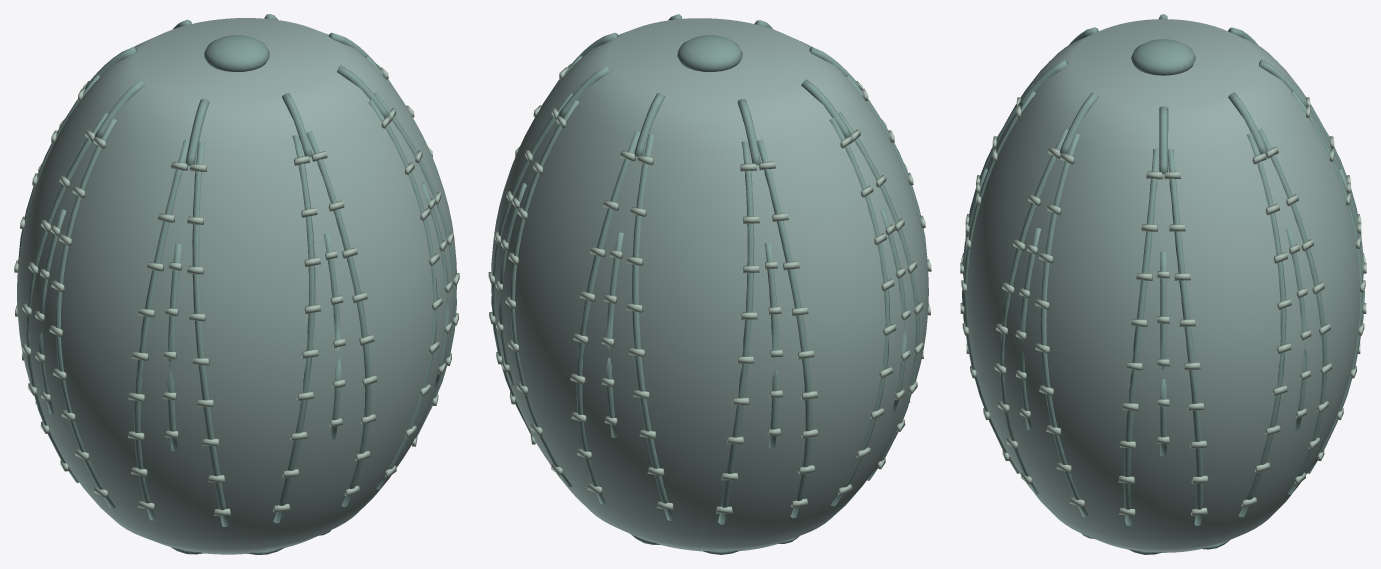
Rendered from ctenorhabdotus.glb.
3 renders of one model, left to right at view 1: azimuth 30°, elevation 25°; view 2: azimuth 150°, elevation 25°; view 3: azimuth 270°, elevation 25°, orthographic.
Parts seen in each view (by area): view 1: short ovoid barrel with flattened oral and aboral poles, eight convergent sets of three comb bands, simplified broad comb plate rhythm, subtle aboral capsule and oral margin; view 2: short ovoid barrel with flattened oral and aboral poles, eight convergent sets of three comb bands, simplified broad comb plate rhythm, subtle aboral capsule and oral margin; view 3: short ovoid barrel with flattened oral and aboral poles, eight convergent sets of three comb bands, simplified broad comb plate rhythm, subtle aboral capsule and oral margin.
Part boxes in pixels (x1,y1,x2,y2): short ovoid barrel with flattened oral and aboral poles: (17, 18, 456, 554); eight convergent sets of three comb bands: (18, 14, 456, 526); simplified broad comb plate rhythm: (14, 64, 459, 515); subtle aboral capsule and oral margin: (170, 35, 331, 554); short ovoid barrel with flattened oral and aboral poles: (491, 18, 928, 551); eight convergent sets of three comb bands: (491, 14, 927, 524); simplified broad comb plate rhythm: (488, 63, 931, 513); subtle aboral capsule and oral margin: (630, 35, 799, 554); short ovoid barrel with flattened oral and aboral poles: (964, 19, 1362, 552); eight convergent sets of three comb bands: (962, 14, 1364, 525); simplified broad comb plate rhythm: (960, 61, 1366, 516); subtle aboral capsule and oral margin: (1082, 39, 1229, 554).
Bounding box in the file's own units: 0.0458 × 0.0523 × 0.0412.
